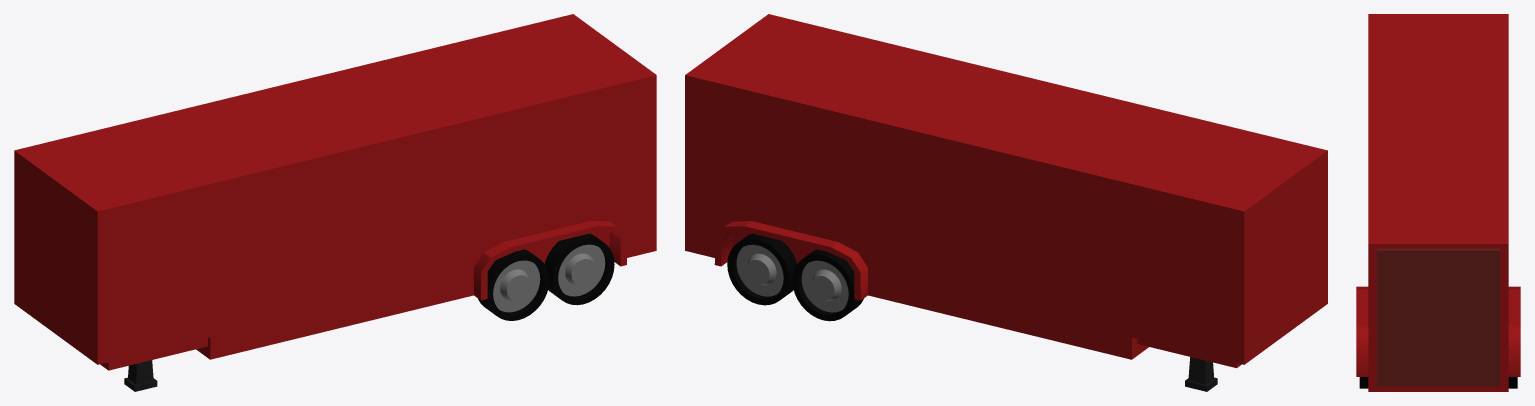
File: pricep.gltf
The picture shows the model from 3 angles, left to right: view 1: azimuth 30°, elevation 25°; view 2: azimuth 150°, elevation 25°; view 3: azimuth 270°, elevation 25°; orthographic projection. The views are drawn at different scales.
Parts seen in each view (by area): view 1: Куб.002, Цилиндр.001, Цилиндр.002, Куб.001; view 2: Куб.002, Цилиндр.001, Цилиндр.002, Куб.001; view 3: Куб.002, Куб.004, Цилиндр.001.
Part boxes in pixels (x1=…): Куб.002: x1=14, y1=14, x2=656, y2=370; Цилиндр.001: x1=478, y1=233, x2=614, y2=320; Цилиндр.002: x1=493, y1=244, x2=605, y2=312; Куб.001: x1=124, y1=360, x2=157, y2=391; Куб.002: x1=685, y1=14, x2=1327, y2=368; Цилиндр.001: x1=727, y1=233, x2=863, y2=321; Цилиндр.002: x1=736, y1=244, x2=848, y2=312; Куб.001: x1=1185, y1=357, x2=1217, y2=391; Куб.002: x1=1356, y1=14, x2=1520, y2=391; Куб.004: x1=1377, y1=248, x2=1499, y2=386; Цилиндр.001: x1=1359, y1=377, x2=1517, y2=388.
Bounding box in the file's own units: 9.41 × 3.29 × 2.82.
